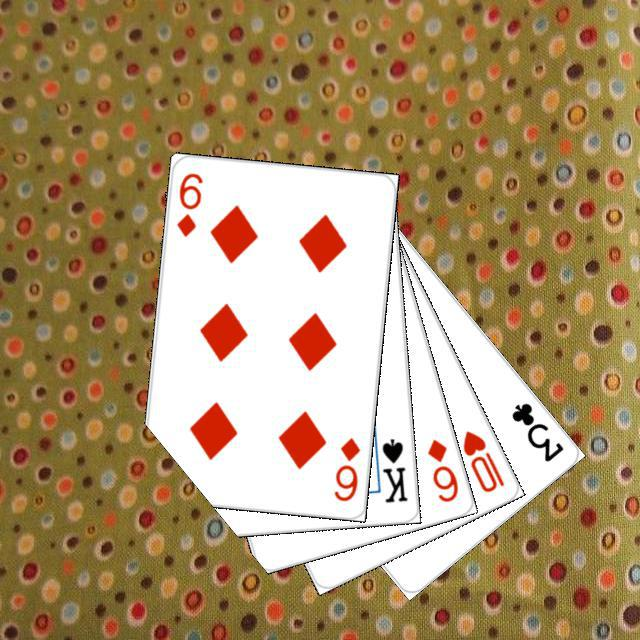10h: (457, 425, 507, 494)
3c: (506, 398, 566, 464)
6d: (422, 434, 460, 504), (329, 432, 362, 503), (172, 168, 205, 239)
Ks: (377, 434, 409, 505)
